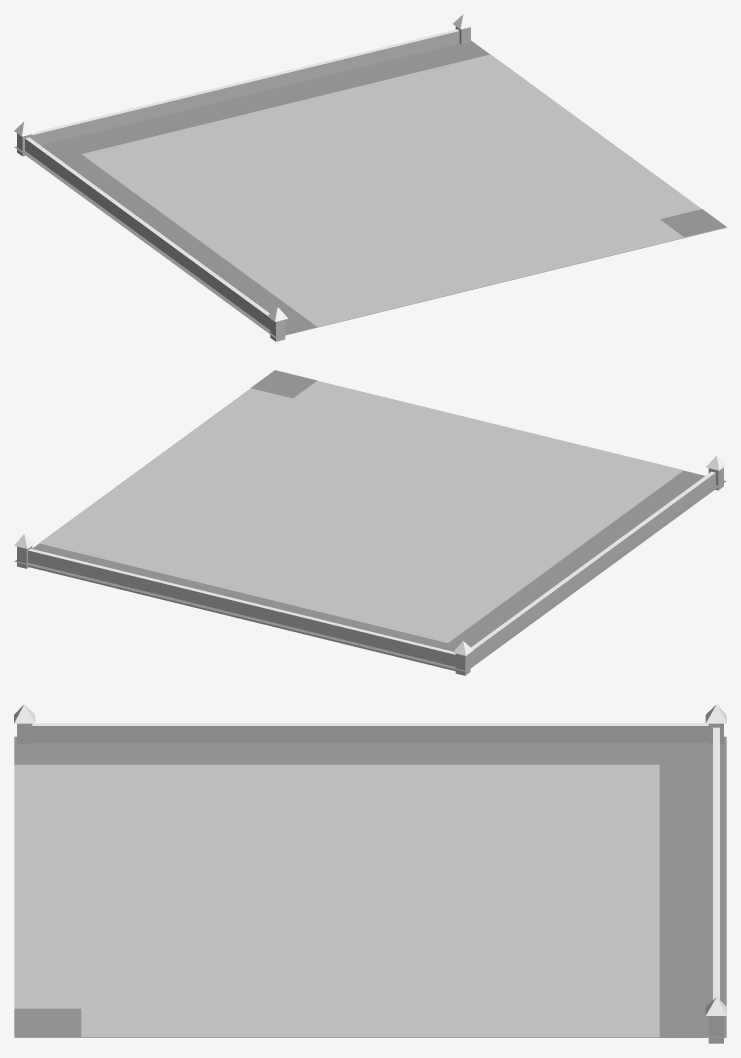
Rendered from tile_for_home_1x1_015.fbx.
3 views of the same model, one above another, from view 1: azimuth 30°, elevation 25°; view 2: azimuth 150°, elevation 25°; view 3: azimuth 270°, elevation 25° (orthographic). The views are drawn at different scales.
Visible parts, largest first — view 1: tile_for_home_1x1_015; view 2: tile_for_home_1x1_015; view 3: tile_for_home_1x1_015.
Part boxes in pixels (x1,y1,x2,y2): tile_for_home_1x1_015: (14, 14, 726, 341); tile_for_home_1x1_015: (14, 370, 726, 675); tile_for_home_1x1_015: (14, 704, 726, 1043).
Size of the model in its own units: 800 by 54.14 by 800.
